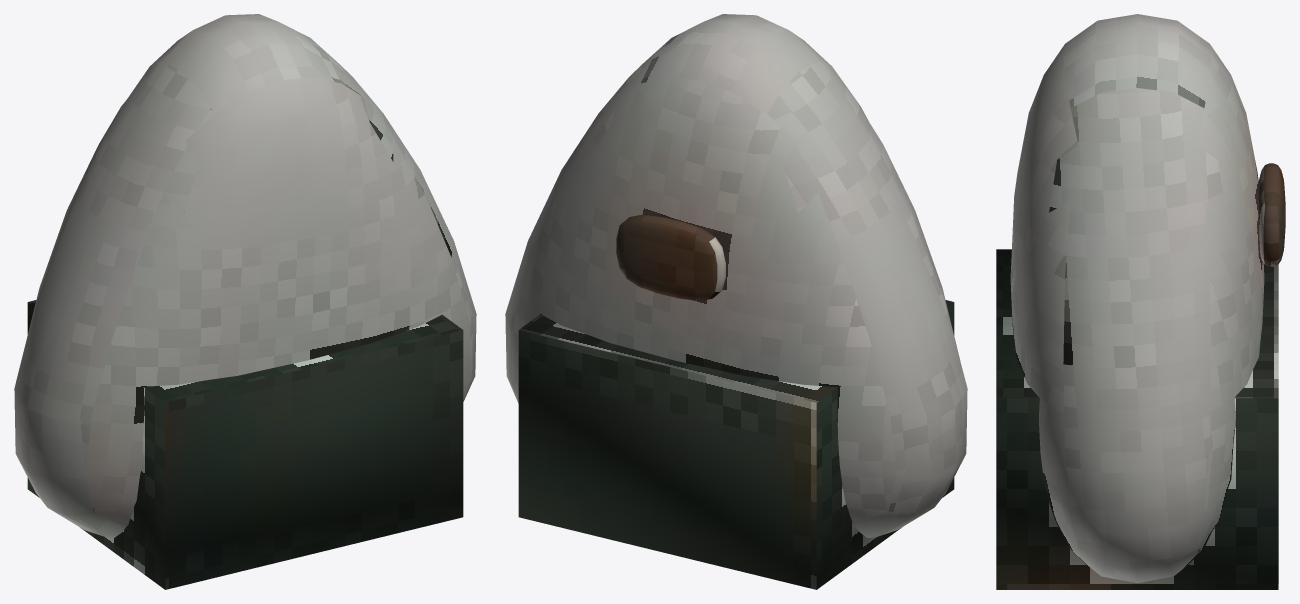
The model's file is onigiri_konbu.glb.
The picture shows the model from 3 angles, left to right: view 1: azimuth 30°, elevation 25°; view 2: azimuth 150°, elevation 25°; view 3: azimuth 270°, elevation 25°; orthographic projection. The views are drawn at different scales.
Parts seen in each view (by area): view 1: prop_onigiri_konbu_felt; view 2: prop_onigiri_konbu_felt; view 3: prop_onigiri_konbu_felt.
Boxes of the visible parts, box(x1,y1,x2,y2) form: prop_onigiri_konbu_felt: box(14, 14, 476, 589); prop_onigiri_konbu_felt: box(505, 14, 967, 589); prop_onigiri_konbu_felt: box(996, 14, 1285, 589).
Size of the model in its own units: 0.1097 by 0.12 by 0.0615.
1 material, 1 textured.
